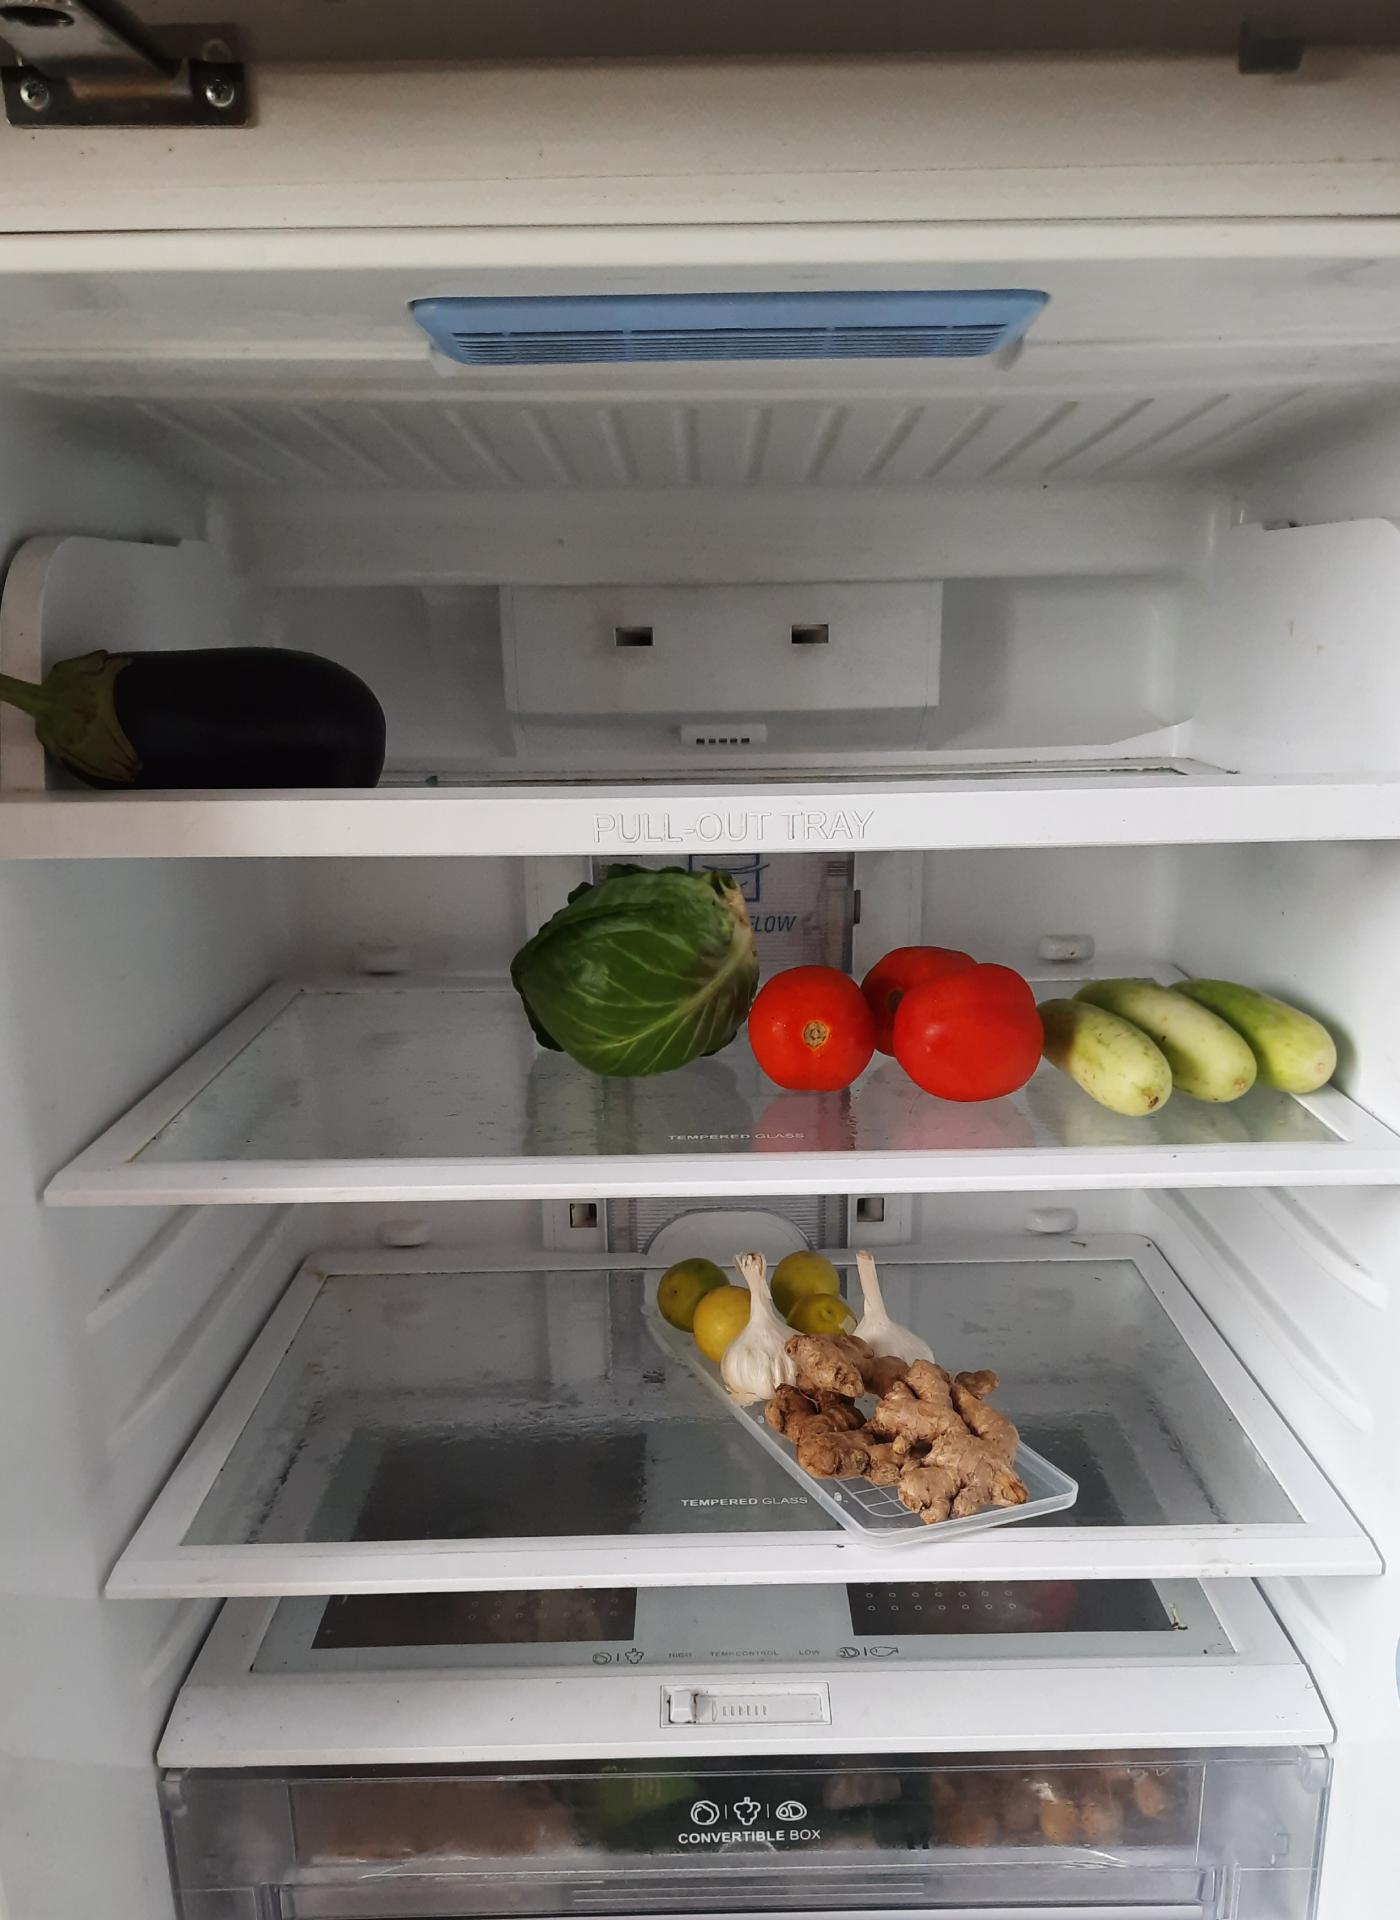brinjal: (6, 628, 397, 792)
cabbage: (514, 872, 760, 1087)
cucumber: (1047, 972, 1346, 1114)
ginger: (768, 1321, 1033, 1510)
lemon: (656, 1254, 751, 1357), (769, 1251, 856, 1336)
tomato: (750, 950, 1047, 1106)
